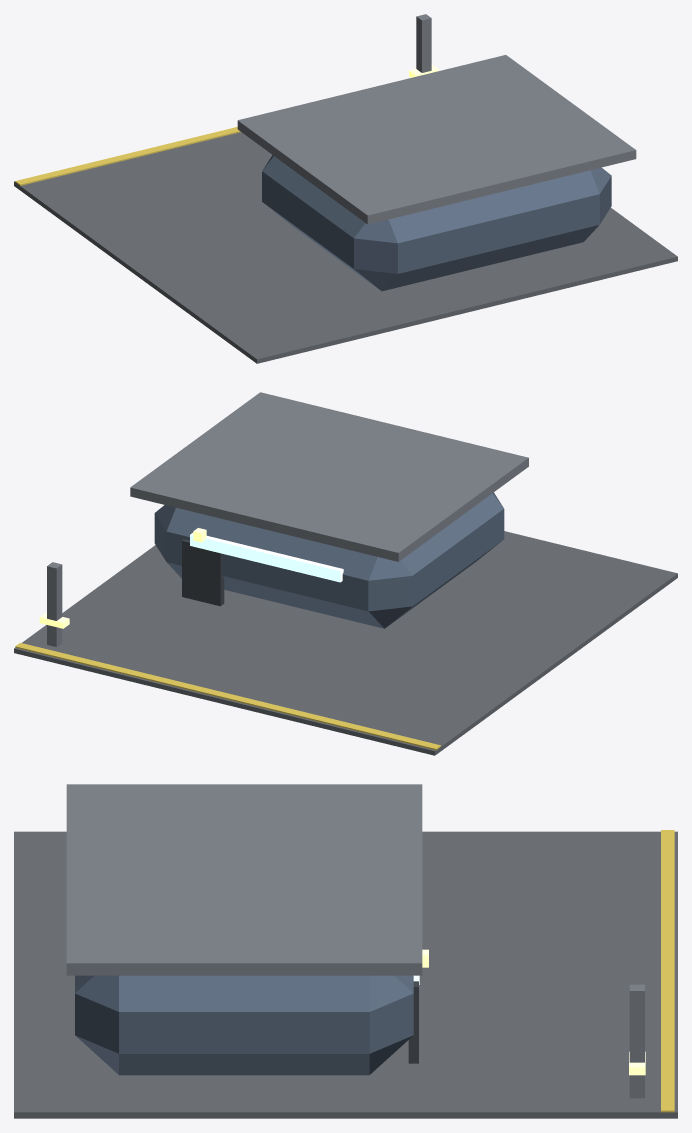
Rendered from zone_low_5_t1.glb.
3 views of the same model, one above another, from view 1: azimuth 30°, elevation 25°; view 2: azimuth 150°, elevation 25°; view 3: azimuth 270°, elevation 25° (orthographic). The views are drawn at different scales.
Visible parts, largest first — view 1: zone_low_5_t1, detail; view 2: zone_low_5_t1, detail; view 3: zone_low_5_t1, detail.
Boxes of the visible parts, box(x1,y1,x2,y2) form: zone_low_5_t1: box(14, 55, 677, 363); detail: box(15, 14, 438, 185); zone_low_5_t1: box(14, 392, 677, 755); detail: box(15, 528, 440, 750); zone_low_5_t1: box(14, 784, 677, 1118); detail: box(422, 830, 674, 1112).
Size of the model in its own units: 19.6 by 4.56 by 19.6.
